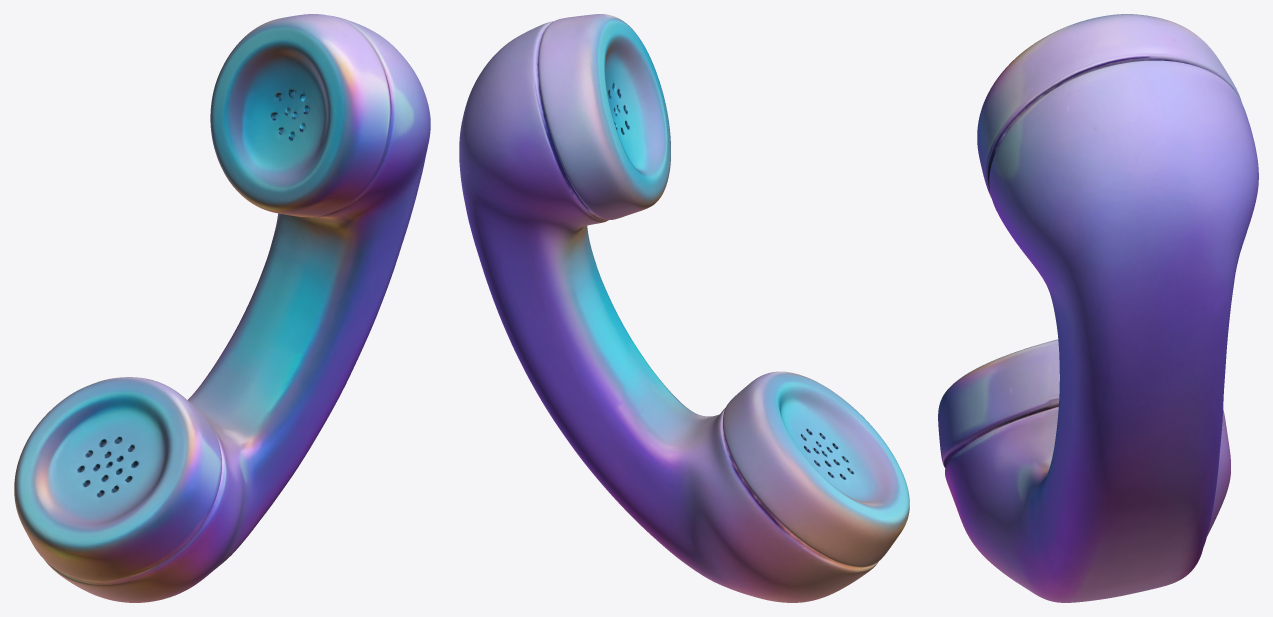
File: phone.glb
3 renders of one model, left to right at view 1: azimuth 30°, elevation 25°; view 2: azimuth 150°, elevation 25°; view 3: azimuth 270°, elevation 25°, orthographic. The views are drawn at different scales.
Visible parts, largest first — view 1: tripo_node_9836599f-49ea-4b8d-894f-24816d15da4b; view 2: tripo_node_9836599f-49ea-4b8d-894f-24816d15da4b; view 3: tripo_node_9836599f-49ea-4b8d-894f-24816d15da4b.
Boxes of the visible parts, bbox=[...] form: tripo_node_9836599f-49ea-4b8d-894f-24816d15da4b: bbox=[14, 14, 430, 602]; tripo_node_9836599f-49ea-4b8d-894f-24816d15da4b: bbox=[459, 14, 909, 602]; tripo_node_9836599f-49ea-4b8d-894f-24816d15da4b: bbox=[938, 14, 1258, 602].
Size of the model in its own units: 0.8047 by 1 by 0.4228.
Materials: 1 (1 with a texture image).
